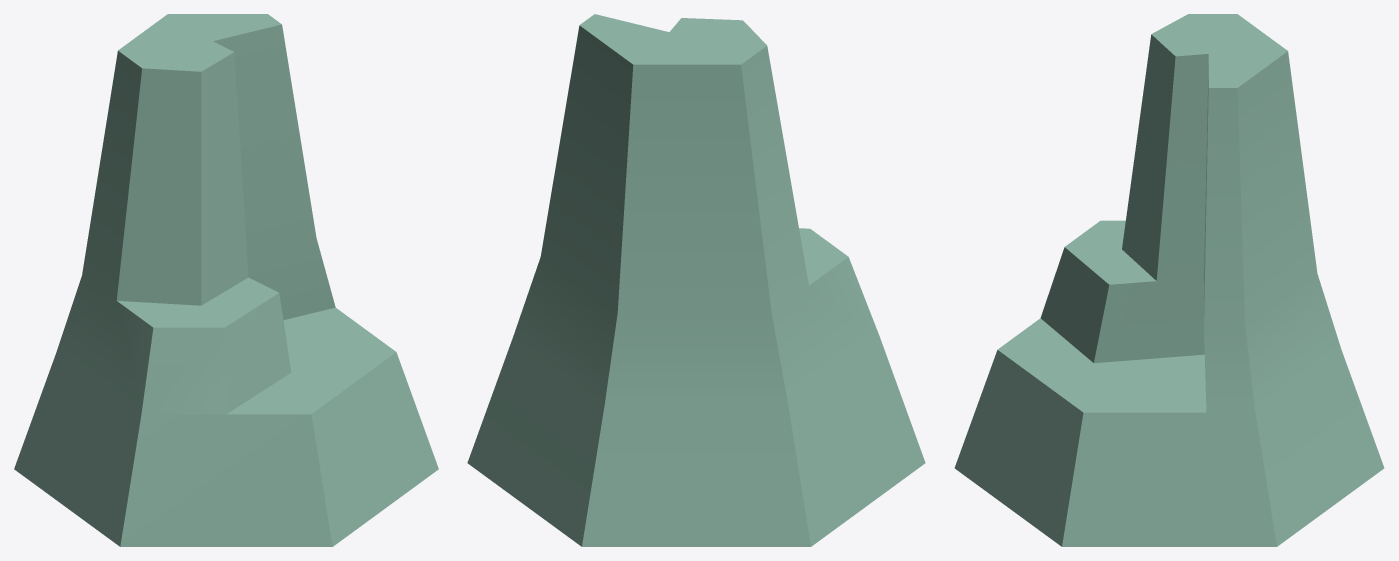
Rendered from naturePack_132.fbx.
3 views of the same model, side by side, from view 1: azimuth 30°, elevation 25°; view 2: azimuth 150°, elevation 25°; view 3: azimuth 270°, elevation 25° (orthographic). The views are drawn at different scales.
Parts seen in each view (by area): view 1: naturePack_132; view 2: naturePack_132; view 3: naturePack_132.
Part boxes in pixels (x1,y1,x2,y2): naturePack_132: (14, 14, 438, 546); naturePack_132: (467, 14, 925, 546); naturePack_132: (954, 14, 1384, 546).
Bounding box in the file's own units: 159 × 197 × 184.
